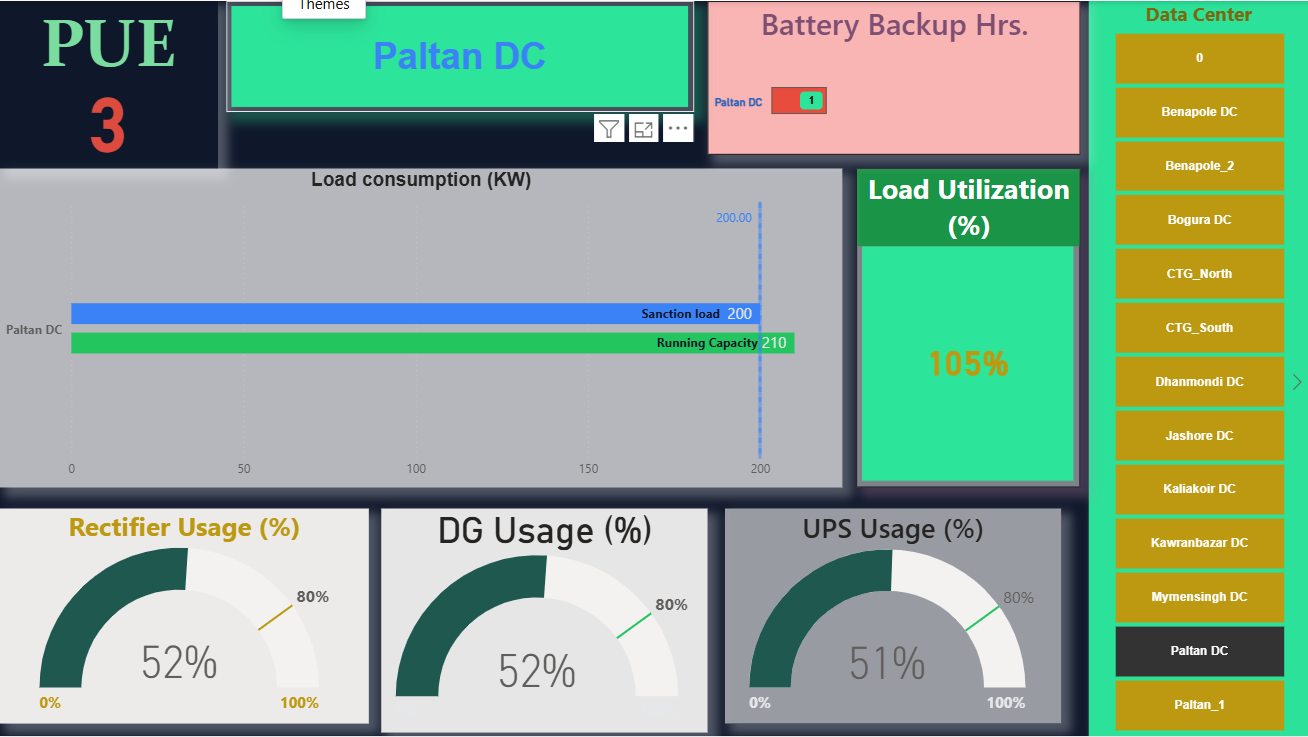

This screenshot's page, from the dashboard's own definition file:
{"tool":"powerbi","page":{"name":"Page 1","canvas":[1280,720],"ordinal":0},"visuals":[{"type":"slicer","title":"Data Center","fields":{"Values":["Sheet1.Data Center Location"]},"box":[1065.1,0,215.2,720.2],"z":0},{"type":"gauge","title":"Rectifier Usage (%)","fields":{"Y":["Sum(Sheet1.Rectifer Usage (%))"]},"box":[0,496.5,360.7,210.3],"z":1000},{"type":"advanceCardE03760C5AB684758B56AA29F9E6C257B","title":"PUE","fields":{"mainMeasure":["Sum(Sheet1.PUE )"]},"box":[0,0,212.8,163.9],"z":2000},{"type":"advanceCardE03760C5AB684758B56AA29F9E6C257B","title":"Load Utilization (%)","fields":{"mainMeasure":["Sheet1.Load Consumption (%)"]},"box":[837.6,163.9,218.9,311.8],"z":3000},{"type":"gauge","fields":{"Y":["Sheet1.DG Usage (%)"]},"box":[373,496.5,319.2,218.9],"z":4000},{"type":"gauge","fields":{"Y":["Sum(Sheet1.UPS Usage (%))"]},"box":[709.2,496.5,328.9,210.3],"z":5000},{"type":"clusteredBarChart","title":"Battery Backup Hrs.","fields":{"Category":["Sheet1.Data Center Location"],"Y":["Sum(Sheet1.Battery Backup hrs. )"]},"box":[692.1,0,364.4,150.4],"z":6000},{"type":"clusteredBarChart","title":"Load consumption (KW) ","fields":{"Y":["Sum(Sheet1.Sanction load )","Sum(Sheet1.Running Capacity)"],"Category":["Sheet1.Data Center Location"]},"box":[0,163.9,824.2,311.8],"z":6001},{"type":"advanceCardE03760C5AB684758B56AA29F9E6C257B","fields":{"mainMeasure":["Min(Sheet1.Data Center Location)"]},"box":[221.3,0,457.3,108.8],"z":6002}]}

Visuals, with their boxes in screenshot pixels (x1, y1, x2, y2):
"Data Center" slicer: bbox=[1084, 3, 1300, 729]
"Rectifier Usage (%)" gauge: bbox=[10, 504, 374, 716]
"PUE" advanceCardE03760C5AB684758B56AA29F9E6C257B: bbox=[10, 3, 225, 169]
"Load Utilization (%)" advanceCardE03760C5AB684758B56AA29F9E6C257B: bbox=[854, 169, 1075, 483]
gauge - Sheet1.DG Usage (%): bbox=[386, 504, 708, 724]
gauge - Sum(Sheet1.UPS Usage (%)): bbox=[725, 504, 1056, 716]
"Battery Backup Hrs." clusteredBarChart: bbox=[708, 3, 1075, 155]
"Load consumption (KW) " clusteredBarChart: bbox=[10, 169, 841, 483]
advanceCardE03760C5AB684758B56AA29F9E6C257B - Min(Sheet1.Data Center Location): bbox=[233, 3, 694, 113]
